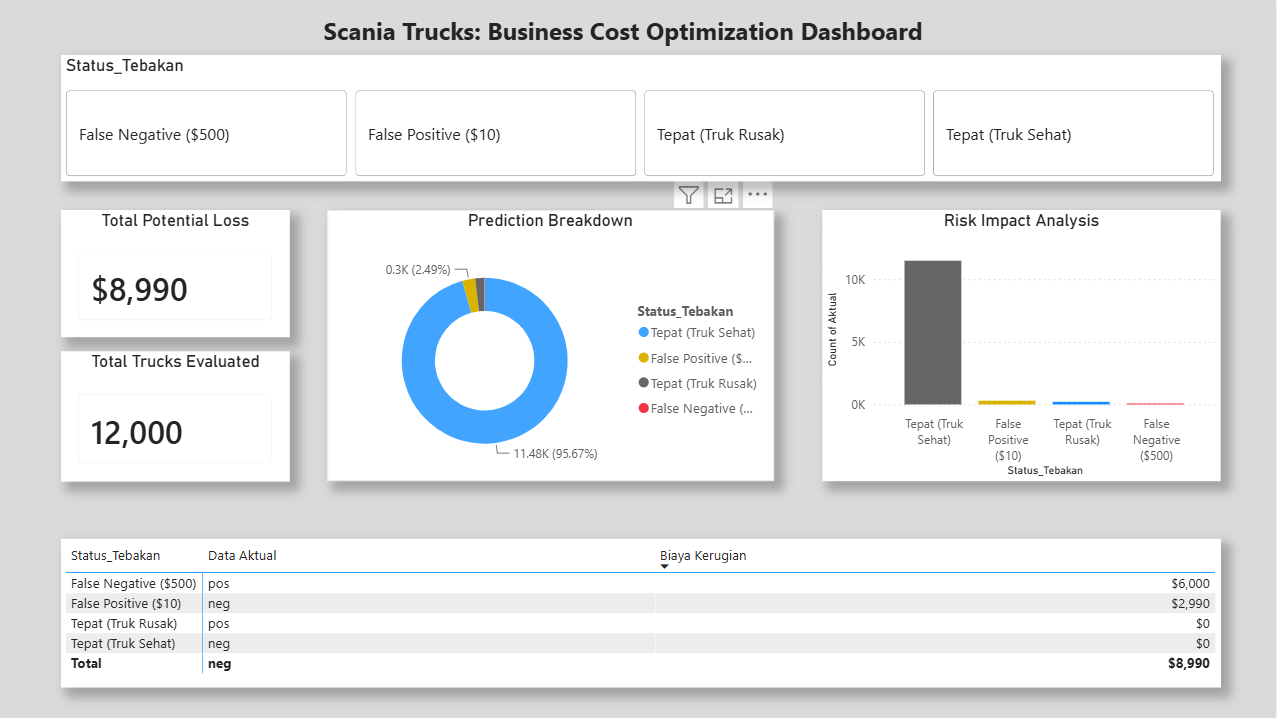

What the dashboard file says about the page in this screenshot:
{"tool":"powerbi","page":{"name":"Page 1","canvas":[1280,720],"ordinal":0},"visuals":[{"type":"donutChart","title":"Prediction Breakdown","fields":{"Category":["Hasil_Prediksi_Scania_Final (2).Status_Tebakan"],"Y":["CountNonNull(Hasil_Prediksi_Scania_Final (2).Aktual)"]},"box":[331.2,210,446.2,271.2],"z":0},{"type":"pivotTable","fields":{"Rows":["Hasil_Prediksi_Scania_Final (2).Status_Tebakan"],"Values":["Min(Hasil_Prediksi_Scania_Final (2).Aktual)","Sum(Hasil_Prediksi_Scania_Final (2).Biaya_Kerugian)"]},"box":[65,538.8,1160,148.8],"z":1000},{"type":"cardVisual","title":"Total Potential Loss","fields":{"Data":["Sum(Hasil_Prediksi_Scania_Final (2).Biaya_Kerugian)"]},"box":[65,210,228.8,127.5],"z":2000},{"type":"textbox","box":[322.5,10,656.2,45],"z":2001},{"type":"advancedSlicerVisual","fields":{"Values":["Hasil_Prediksi_Scania_Final (2).Status_Tebakan"]},"box":[65,55,1160,126.2],"z":2002},{"type":"clusteredColumnChart","title":"Risk Impact Analysis","fields":{"Category":["Hasil_Prediksi_Scania_Final (2).Status_Tebakan"],"Y":["CountNonNull(Hasil_Prediksi_Scania_Final (2).Aktual)"]},"box":[826.2,210,398.8,271.2],"z":2003},{"type":"cardVisual","title":"Total Trucks Evaluated","fields":{"Data":["Hasil_Prediksi_Scania_Final (2).Total Truk Evaluasi"]},"box":[65,351.2,228.8,130],"z":2004}]}

Visuals, with their boxes in screenshot pixels (x1, y1, x2, y2), scaled from the page's 1280x720 canvas onto the 1277x718 screenshot:
"Prediction Breakdown" donutChart: (330, 209, 776, 480)
pivotTable - Hasil_Prediksi_Scania_Final (2).Status_Tebakan x Min(Hasil_Prediksi_Scania_Final (2).Aktual): (65, 537, 1222, 686)
"Total Potential Loss" cardVisual: (65, 209, 293, 337)
textbox: (322, 10, 976, 55)
advancedSlicerVisual - Hasil_Prediksi_Scania_Final (2).Status_Tebakan: (65, 55, 1222, 181)
"Risk Impact Analysis" clusteredColumnChart: (824, 209, 1222, 480)
"Total Trucks Evaluated" cardVisual: (65, 350, 293, 480)
